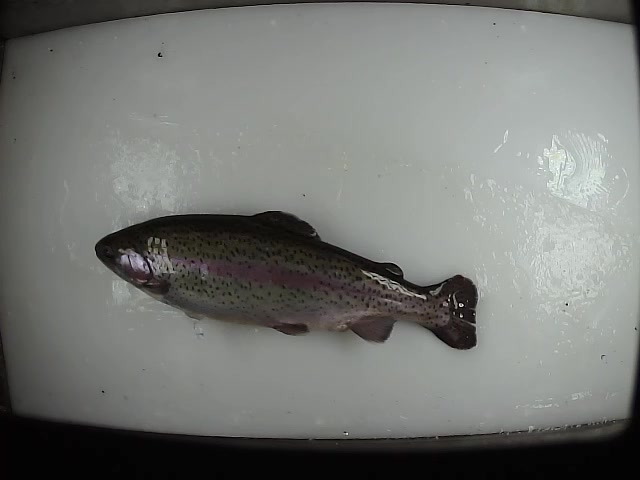fish: (93, 208, 479, 353)
